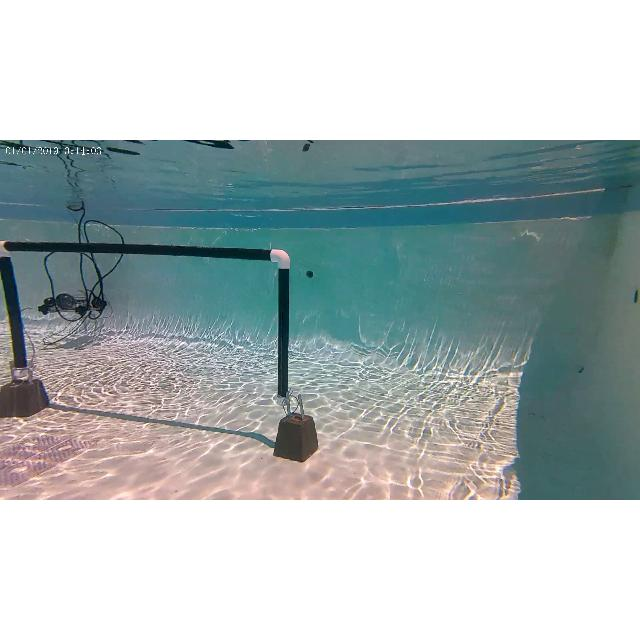prequal gate: (0, 241, 288, 405)
prequal gate leg l: (0, 244, 50, 416)
prequal gate leg r: (260, 240, 318, 464)
